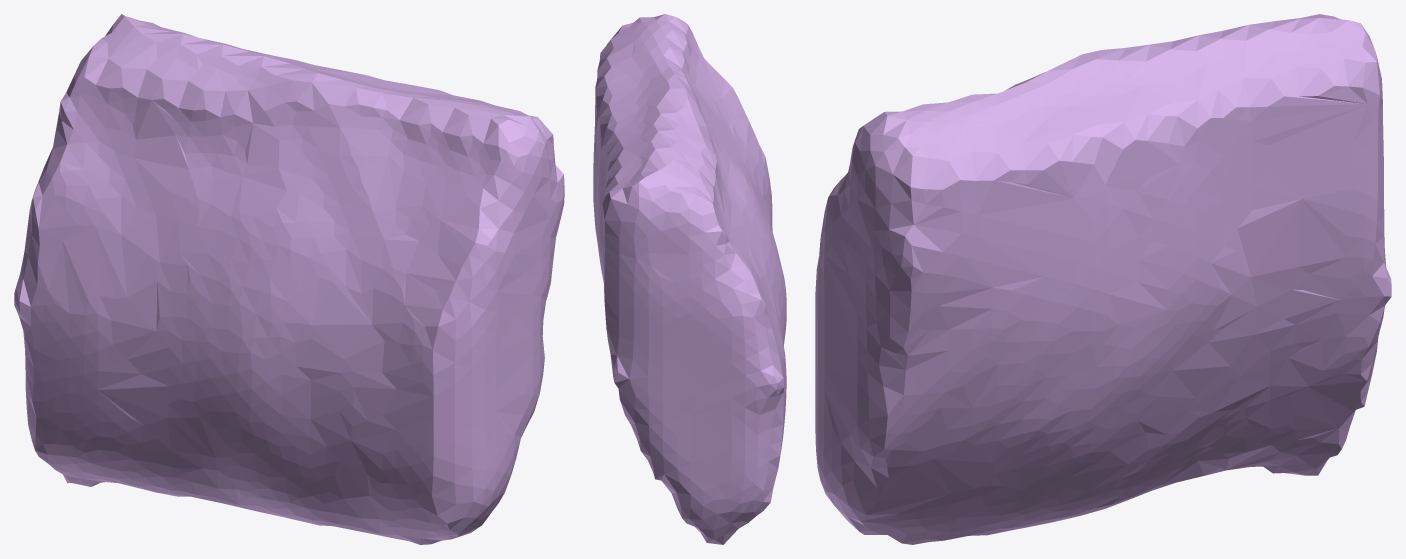
Rendered from Model_141_RH__Ventral_intraparietal_area_of_cortex_(VIP).obj.
The picture shows the model from 3 angles, left to right: view 1: azimuth 30°, elevation 25°; view 2: azimuth 150°, elevation 25°; view 3: azimuth 270°, elevation 25°; orthographic projection. The views are drawn at different scales.
Size of the model in its own units: 1.99 by 2.21 by 2.32.
